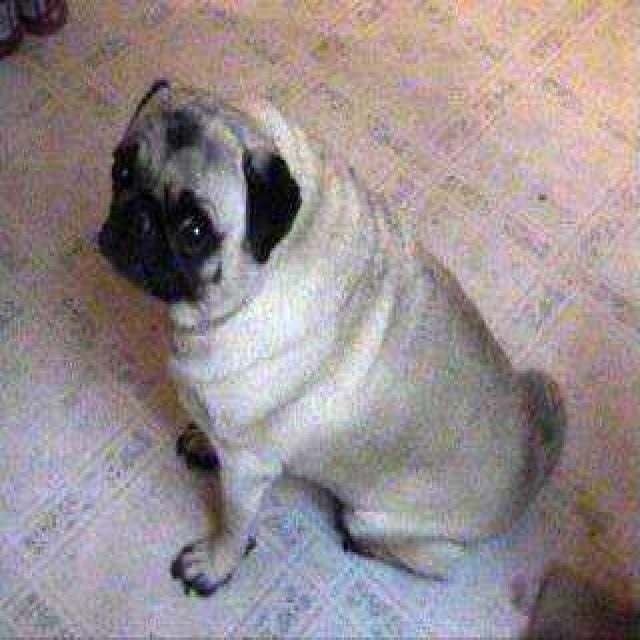dogs: (95, 76, 568, 603)
